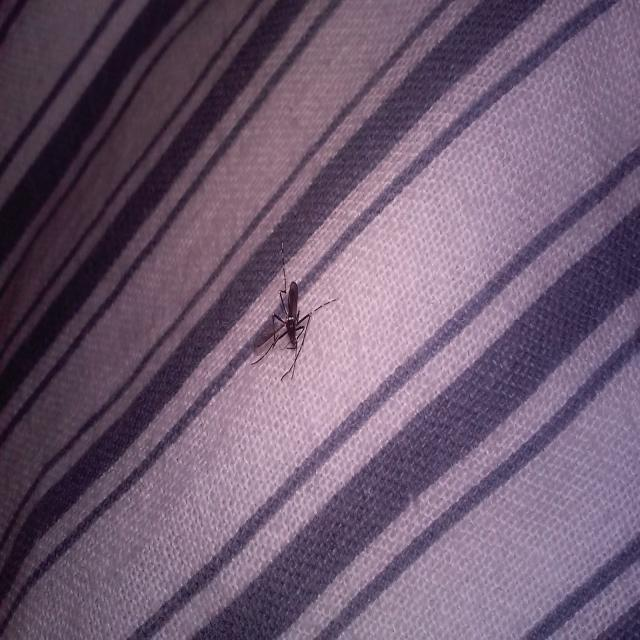albopictus: (248, 232, 339, 384)
